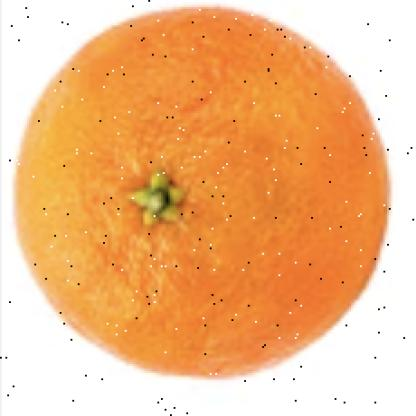fresh: (18, 8, 393, 379)
